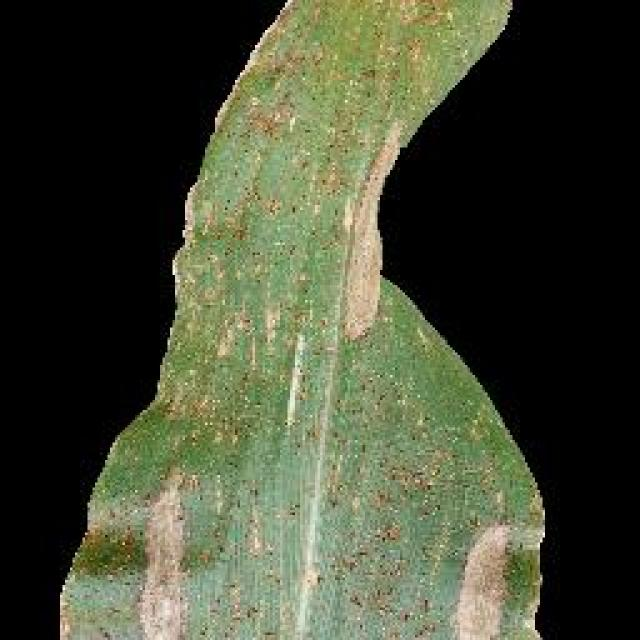Corn Common Rust: (91, 21, 541, 640)
